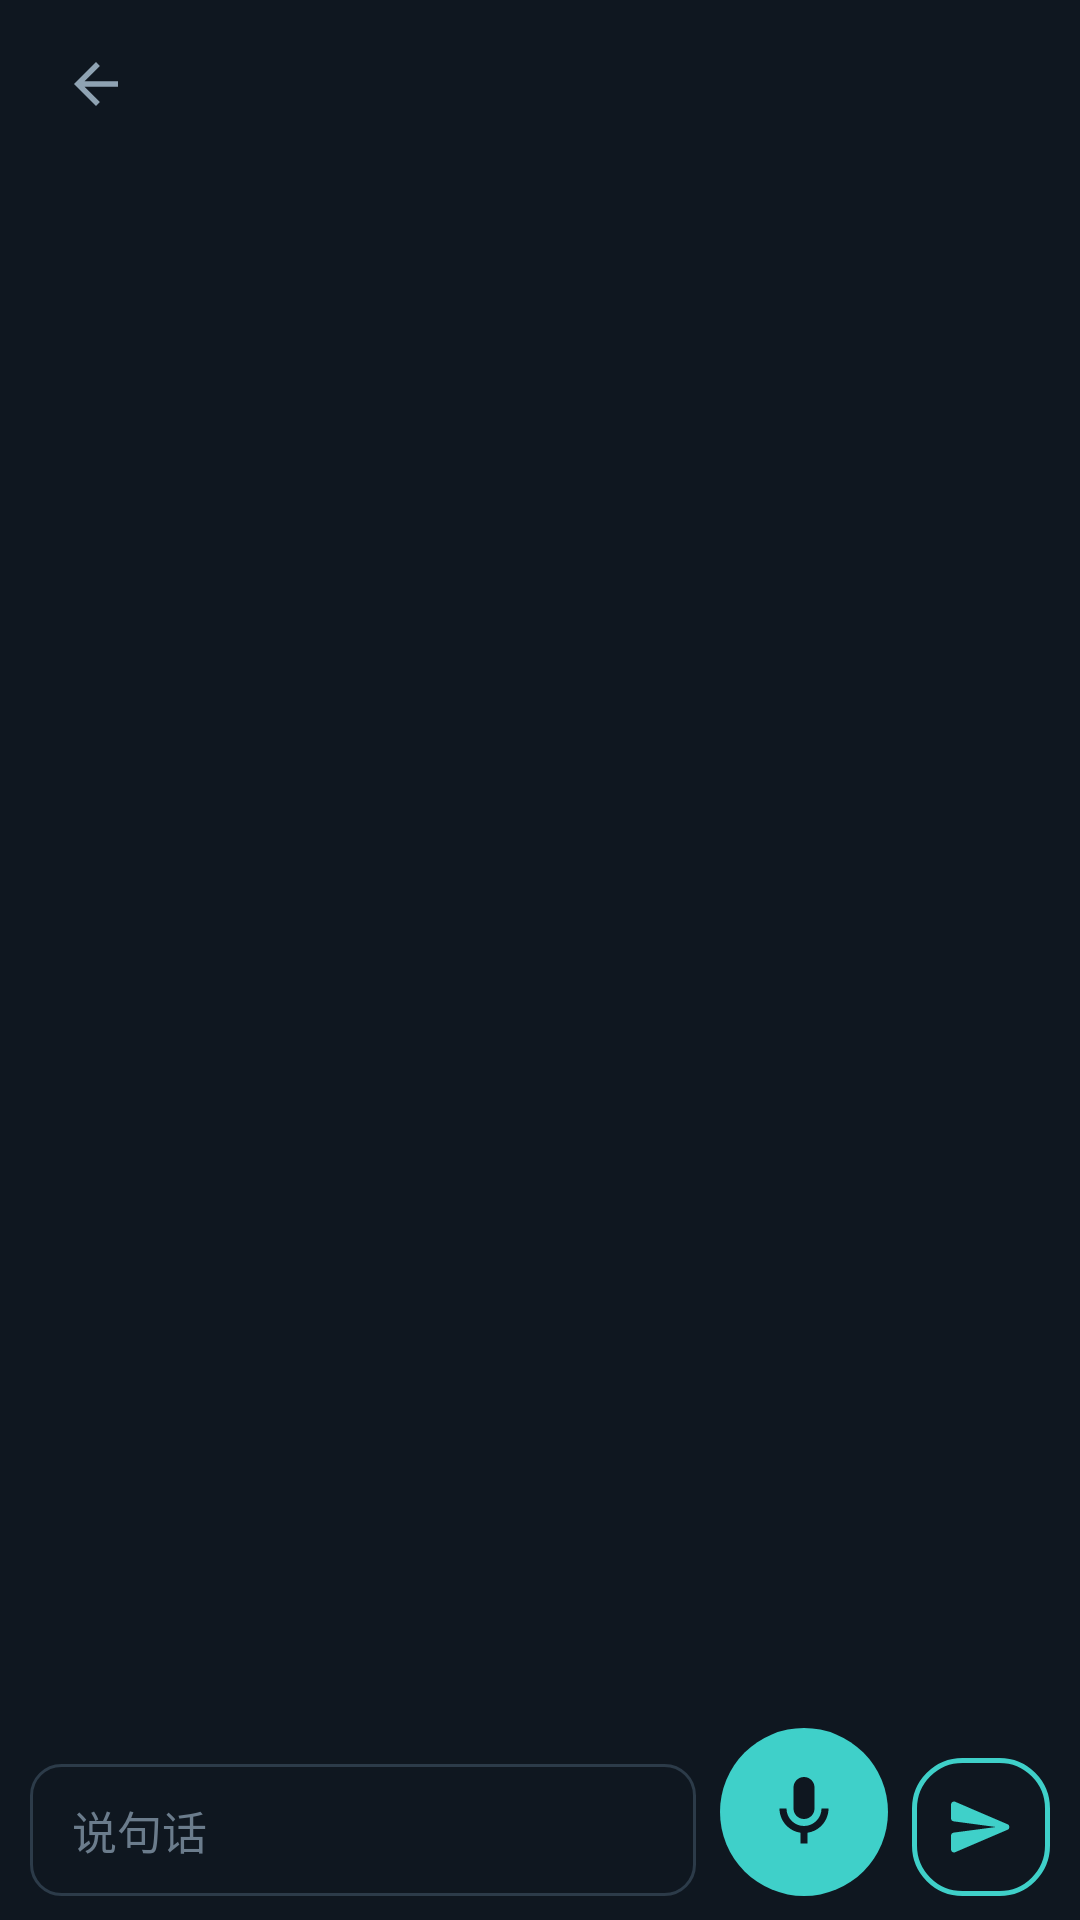

Named icons in this screenshot (1080×1920) and their centers, point (x, y):
发送: point (981, 1827)
按住说话: point (804, 1812)
返回: point (96, 84)
